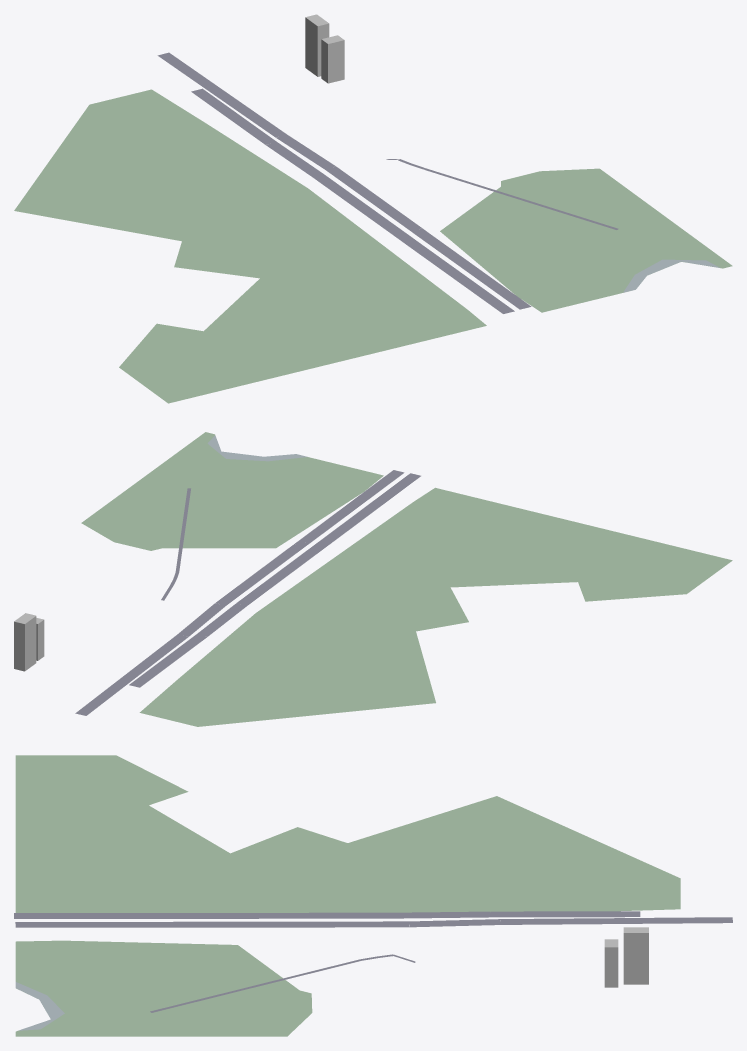
The model's file is 94_113_mid.glb.
The picture shows the model from 3 angles, top to bottom: view 1: azimuth 30°, elevation 25°; view 2: azimuth 150°, elevation 25°; view 3: azimuth 270°, elevation 25°; orthographic projection. The views are drawn at different scales.
Size of the model in its own units: 500 by 42.9 by 541.
